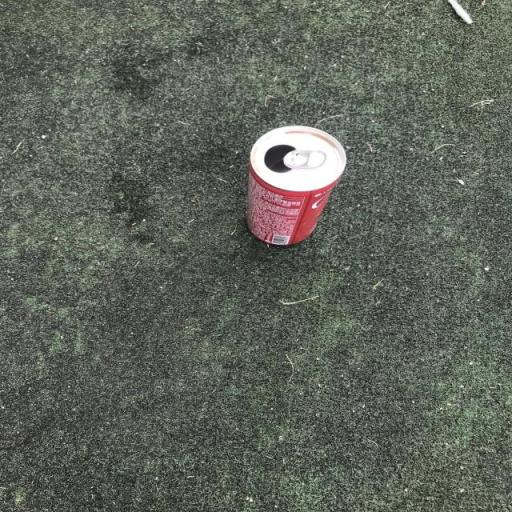metal: (217, 110, 369, 264)
